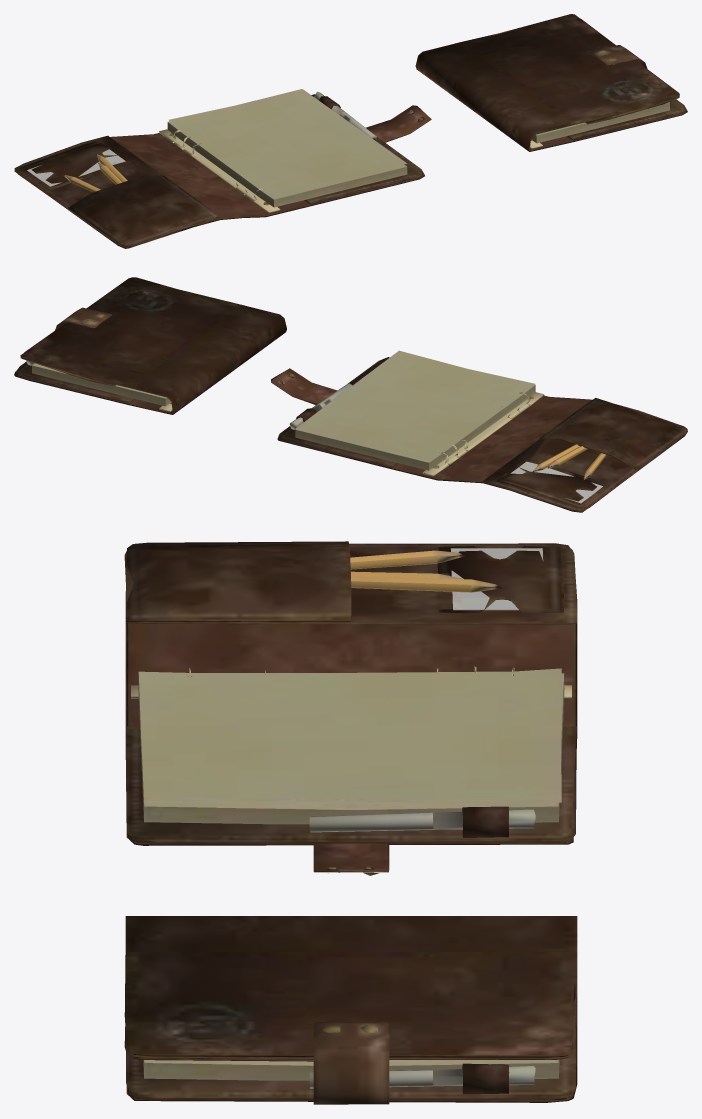
Rendered from binder_notebook.glb.
3 views of the same model, one above another, from view 1: azimuth 30°, elevation 25°; view 2: azimuth 150°, elevation 25°; view 3: azimuth 270°, elevation 25° (orthographic). The views are drawn at different scales.
Parts seen in each view (by area): view 1: binder_notebook; view 2: binder_notebook; view 3: binder_notebook.
Boxes of the visible parts, x1=… form: binder_notebook: x1=14, y1=14, x2=687, y2=248; binder_notebook: x1=14, y1=277, x2=687, y2=512; binder_notebook: x1=124, y1=541, x2=577, y2=1104.
Bounding box in the file's own units: 0.5833 × 0.0247 × 0.1995.
Materials: 1 (1 with a texture image).
